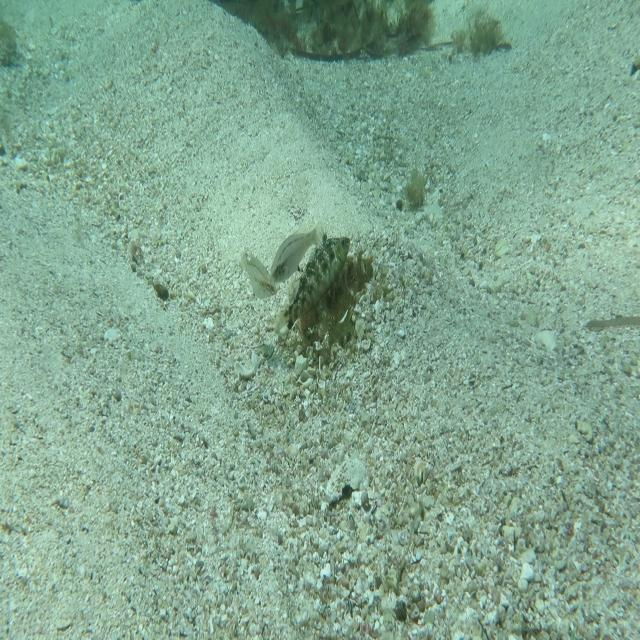ROLL: (268, 222, 359, 346)
female: (270, 216, 328, 286)
nest: (284, 242, 381, 362)
other_fish: (234, 244, 280, 304)
